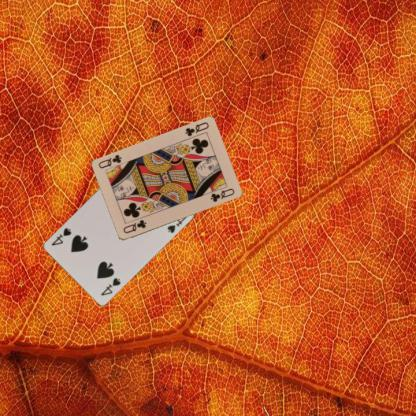4s: (98, 275, 122, 296)
Qc: (182, 120, 210, 138), (121, 217, 148, 235)
